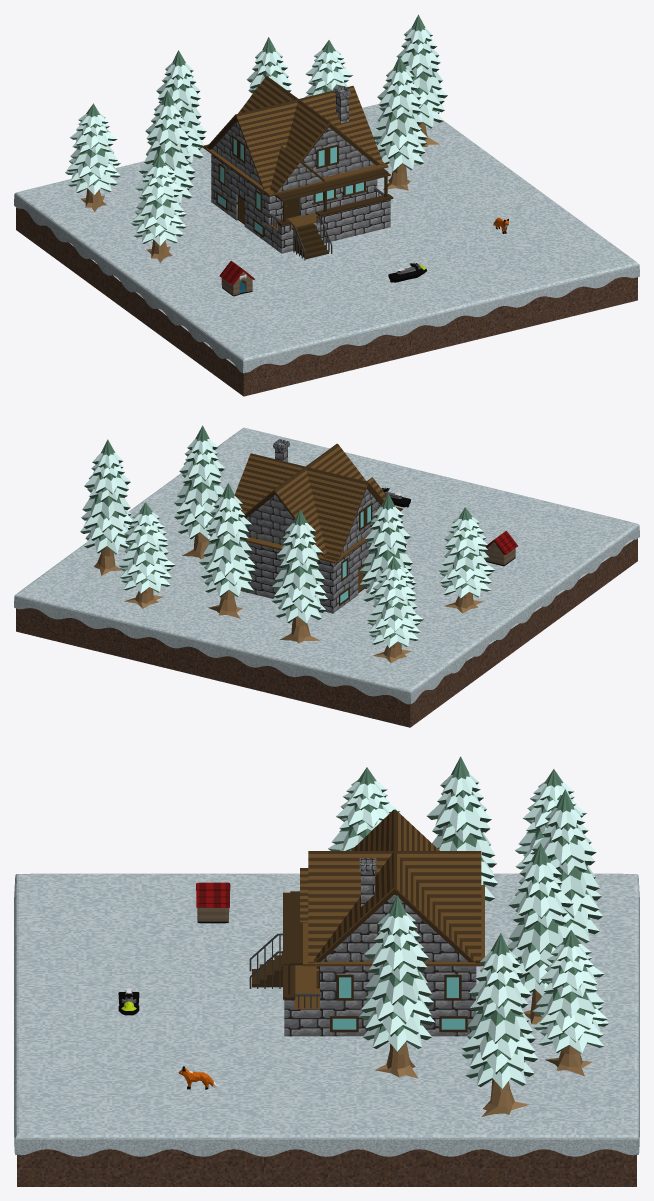
3 views of the same model, one above another, from view 1: azimuth 30°, elevation 25°; view 2: azimuth 150°, elevation 25°; view 3: azimuth 270°, elevation 25° (orthographic). The views are drawn at different scales.
Parts seen in each view (by area): view 1: Cube.003, Cube.586, OBJRANDOM_DOGHOUSE; view 2: Cube.003, Cube.586, OBJRANDOM_DOGHOUSE; view 3: Cube.003, Cube.586, OBJRANDOM_DOGHOUSE.
Part boxes in pixels (x1,y1,x2,y2): Cube.003: (14, 14, 639, 396); Cube.586: (202, 76, 393, 260); OBJRANDOM_DOGHOUSE: (219, 261, 254, 296); Cube.003: (14, 425, 639, 727); Cube.586: (234, 439, 405, 613); OBJRANDOM_DOGHOUSE: (485, 531, 517, 566); Cube.003: (14, 756, 639, 1186); Cube.586: (249, 809, 484, 1036); OBJRANDOM_DOGHOUSE: (196, 882, 230, 923).
Size of the model in its own units: 4040 by 1665 by 4040.
Materials: 27 (4 with a texture image).
